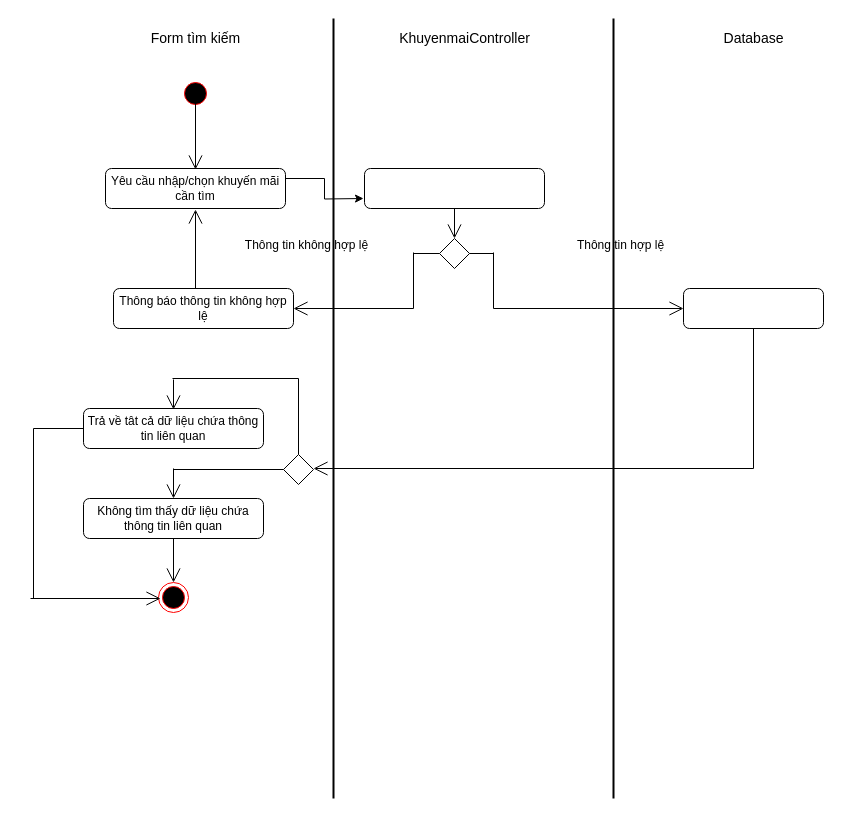
Image size: 841x817. Some labels were removed from this diagram. The shapes that lost their labels are listed below. From the top down, each one's centre as x and y in pixels, then its label:
the point at 454,188: Xác nhận tính hợp lệ của thông tin
the point at 753,308: Tìm kiếm thông tin đã nhập/chọn
